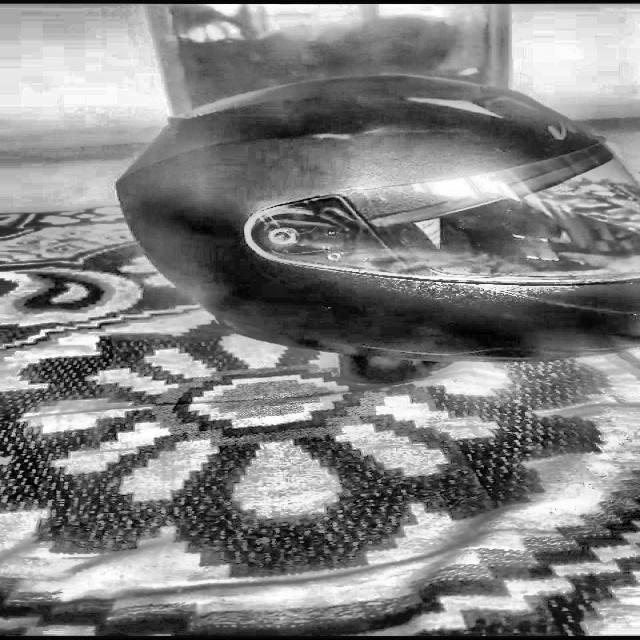Helmet: (109, 72, 640, 366)
